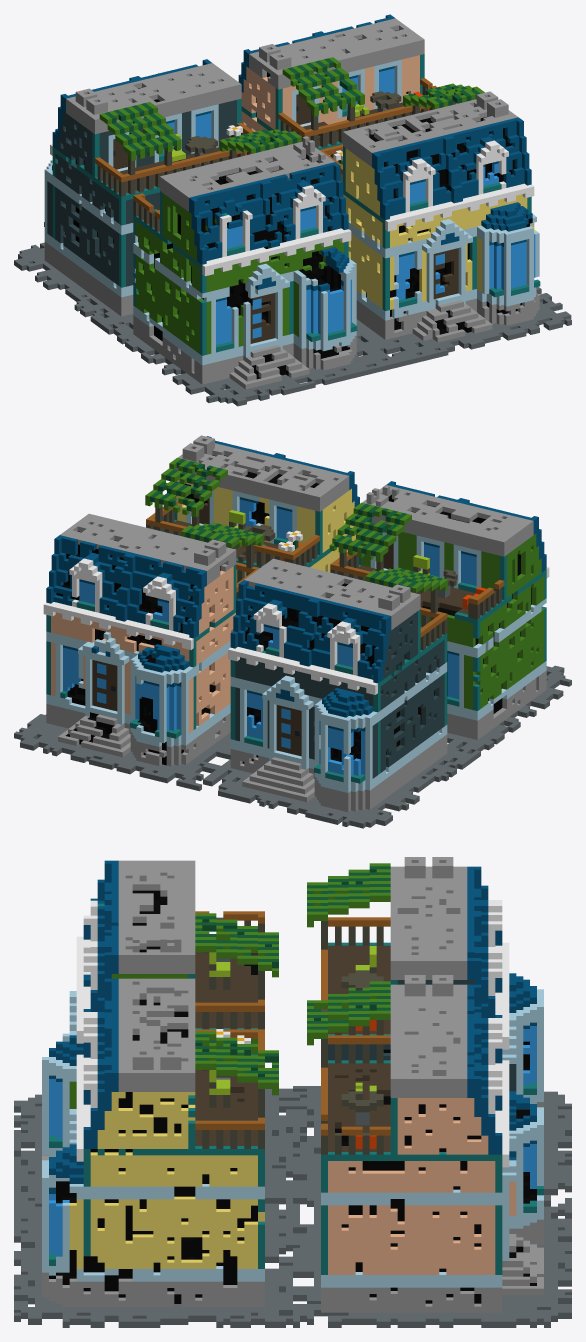
The model's file is building_small_6_damaged.obj.
3 views of the same model, one above another, from view 1: azimuth 30°, elevation 25°; view 2: azimuth 150°, elevation 25°; view 3: azimuth 270°, elevation 25° (orthographic). The views are drawn at different scales.
Bounding box in the file's own units: 8 × 4 × 8.
1 material, 1 textured.
